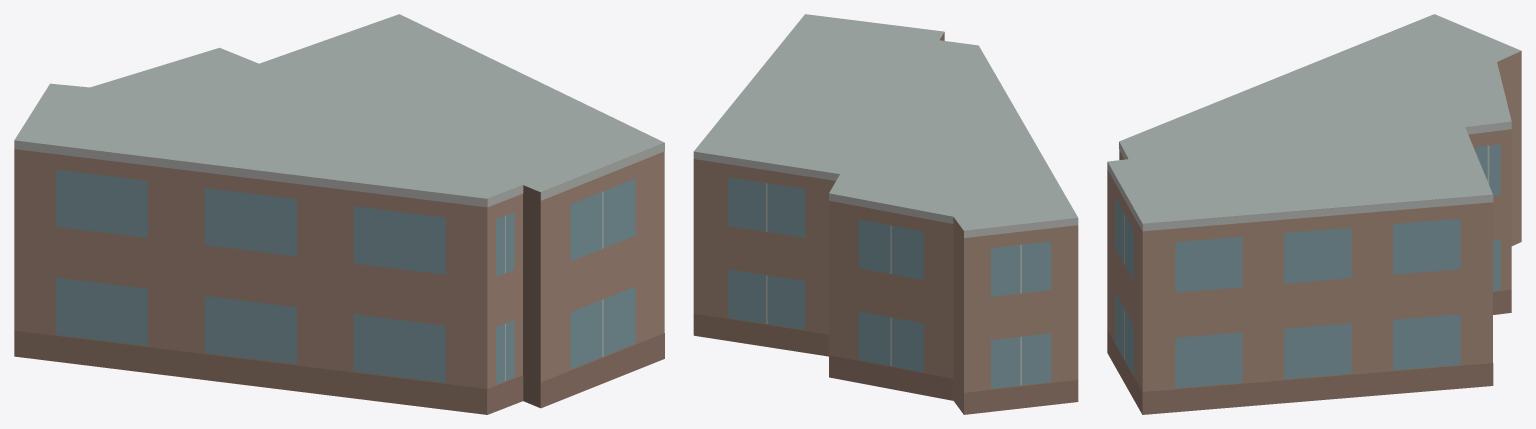
Rendered from survey-upis-32924932.glb.
3 renders of one model, left to right at view 1: azimuth 30°, elevation 25°; view 2: azimuth 150°, elevation 25°; view 3: azimuth 270°, elevation 25°, orthographic. The views are drawn at different scales.
Parts seen in each view (by area): view 1: survey-upis-32924932.tmp; view 2: survey-upis-32924932.tmp; view 3: survey-upis-32924932.tmp.
Part boxes in pixels (x1,y1,x2,y2): survey-upis-32924932.tmp: (14,14,664,414); survey-upis-32924932.tmp: (693,14,1078,414); survey-upis-32924932.tmp: (1107,14,1521,414).
Bounding box in the file's own units: 14.36 × 6.1 × 11.99.
